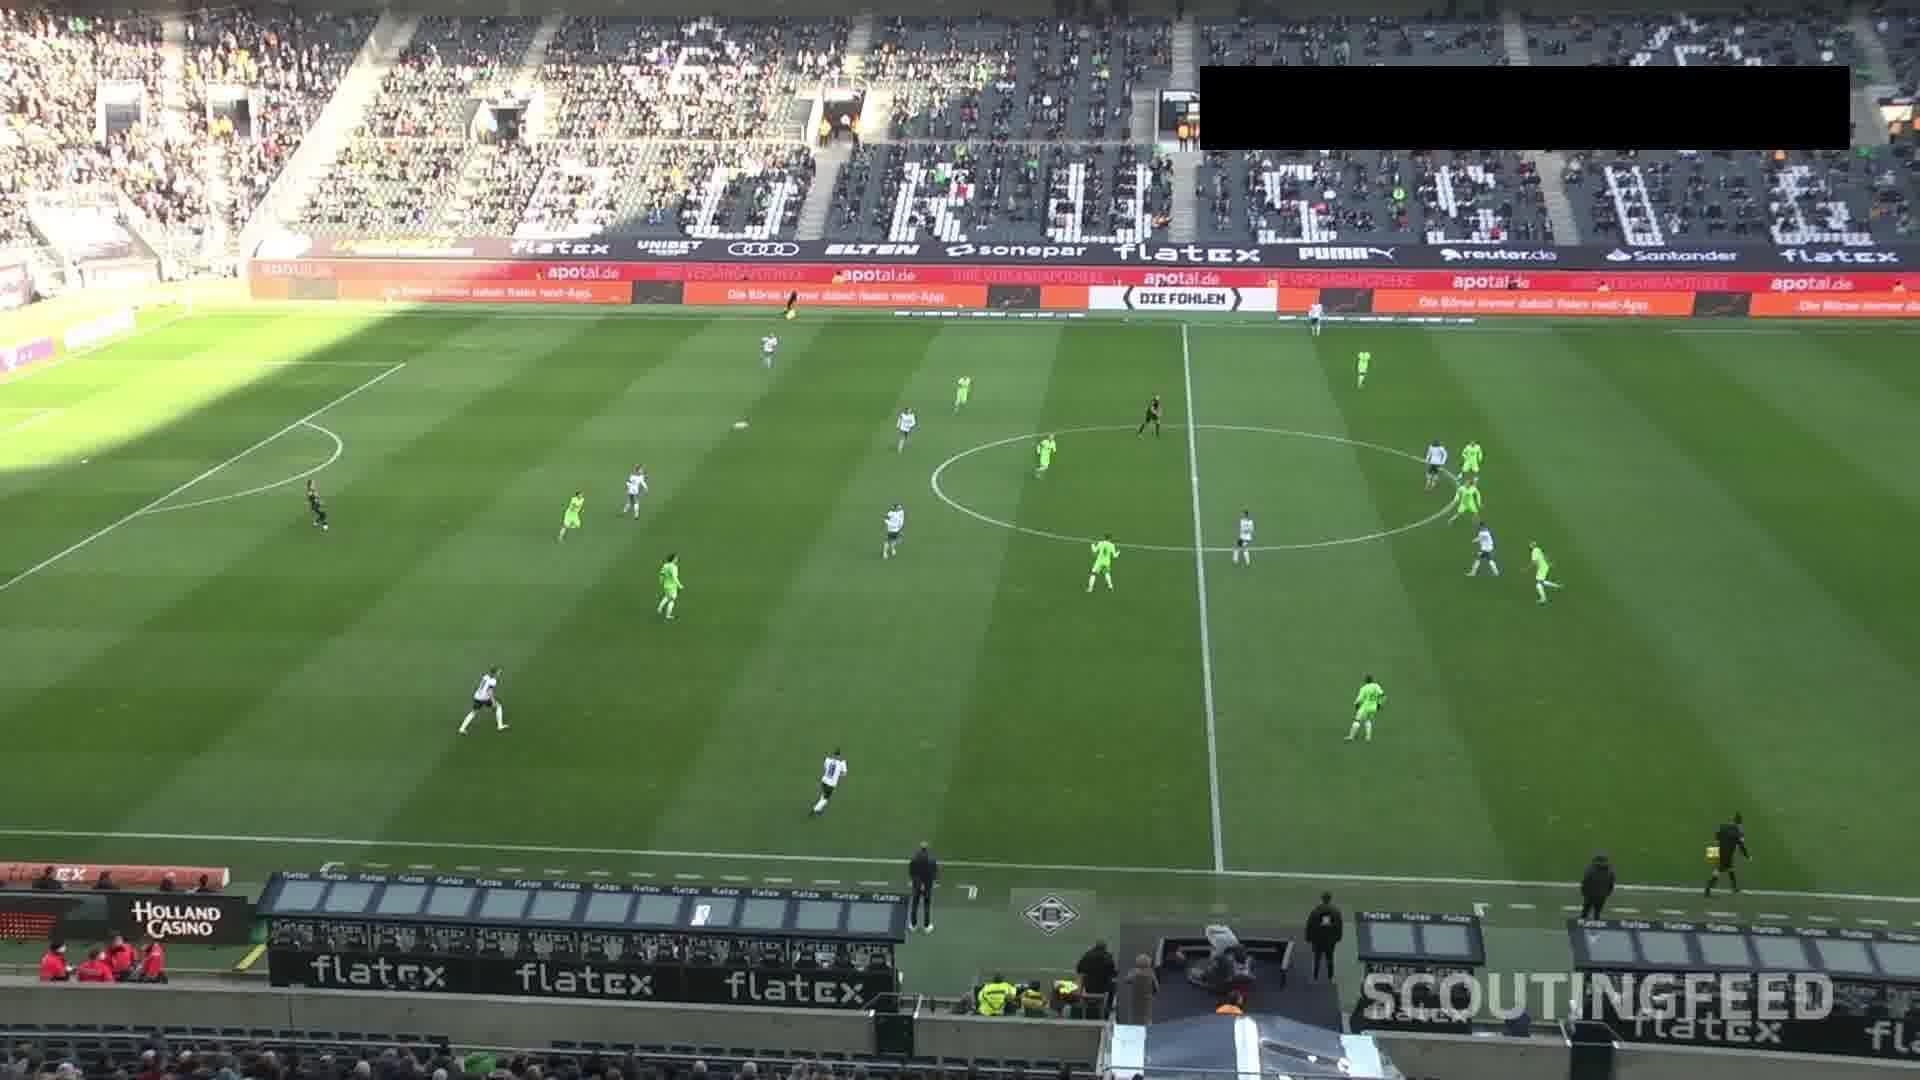football: (732, 421, 752, 431)
